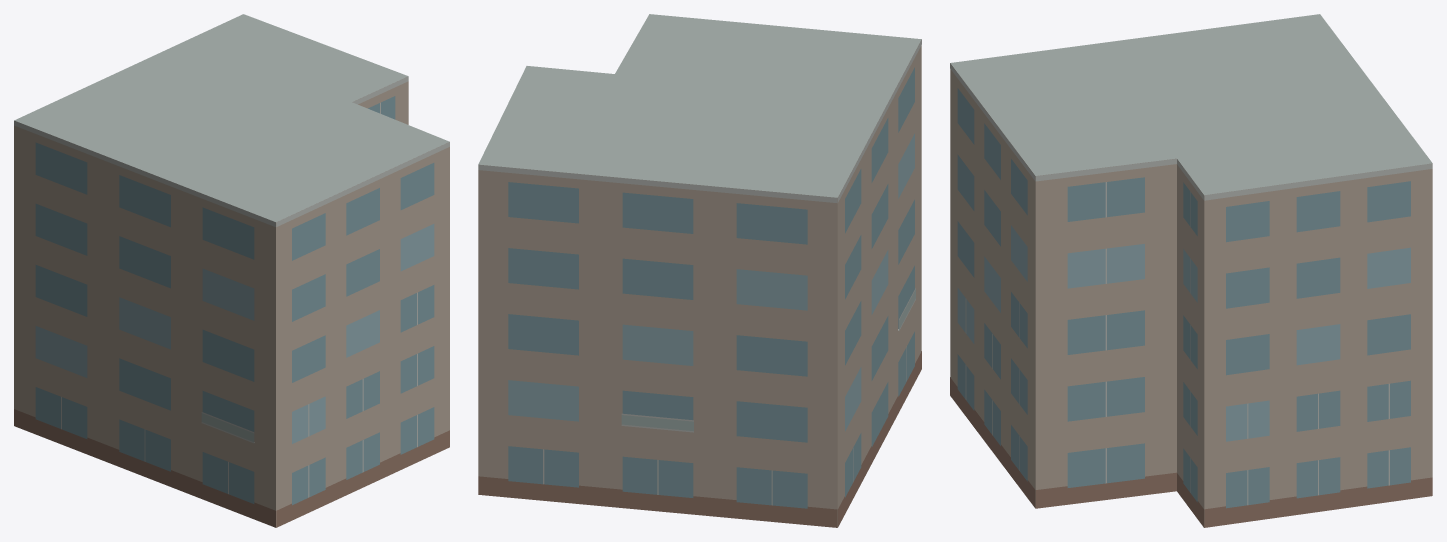
Rendered from survey-upis-32743548.glb.
The picture shows the model from 3 angles, left to right: view 1: azimuth 30°, elevation 25°; view 2: azimuth 150°, elevation 25°; view 3: azimuth 270°, elevation 25°; orthographic projection. The views are drawn at different scales.
Parts seen in each view (by area): view 1: survey-upis-32743548.tmp; view 2: survey-upis-32743548.tmp; view 3: survey-upis-32743548.tmp.
Boxes of the visible parts, x1,y1,x2,y2 form: survey-upis-32743548.tmp: [14, 14, 449, 527]; survey-upis-32743548.tmp: [478, 14, 921, 527]; survey-upis-32743548.tmp: [950, 14, 1432, 527].
Size of the model in its own units: 17.31 by 14.8 by 19.47.
